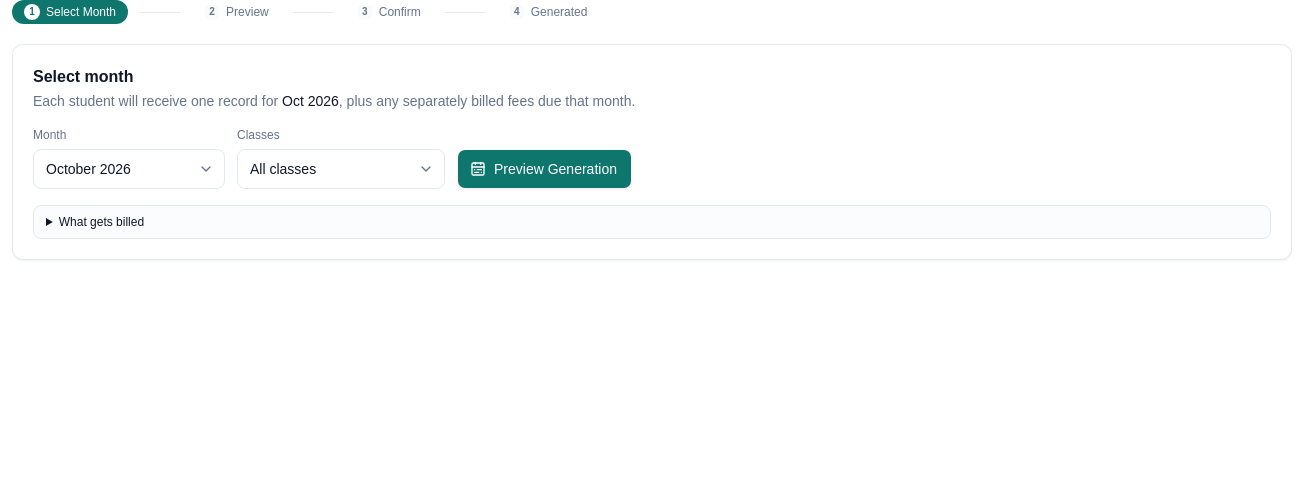
MonthlyGenerationPage › shows missing fee-structure rows and blocks confirm when nothing else can bill
Click the button "Preview Generation". click: click(544, 169)
box: [457,149,632,189]
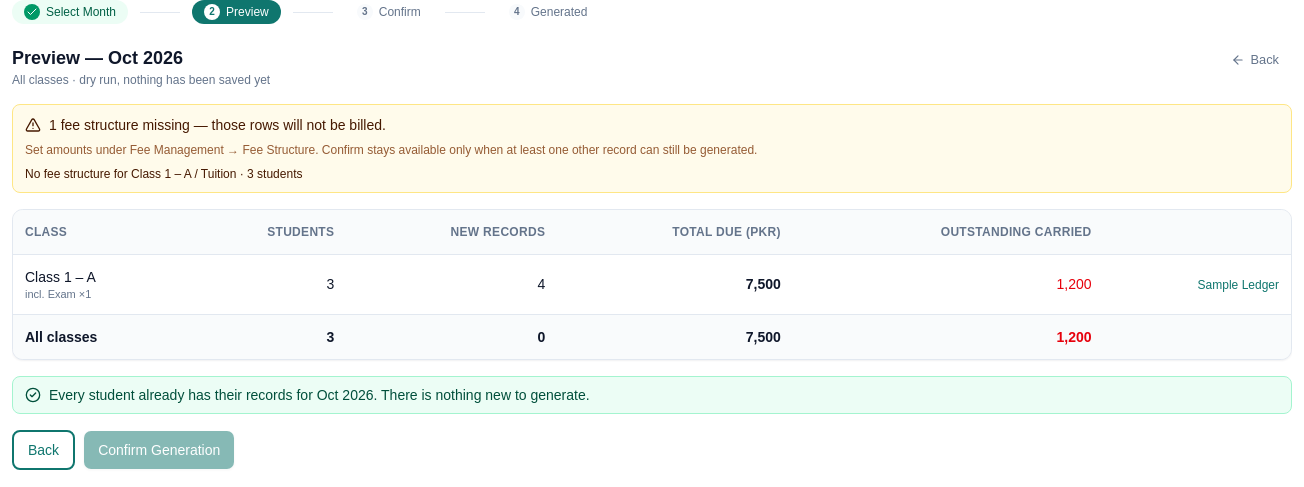
Result: the message with test id "missing-fee-structures" is shown at [12,104,1292,193]
Result: the list item "No fee structure for Class 1 – A / Tuition · 3 students" is shown at [25,167,302,181]
Result: the button with test id "confirm-generation" is disabled at [83,430,235,470]
